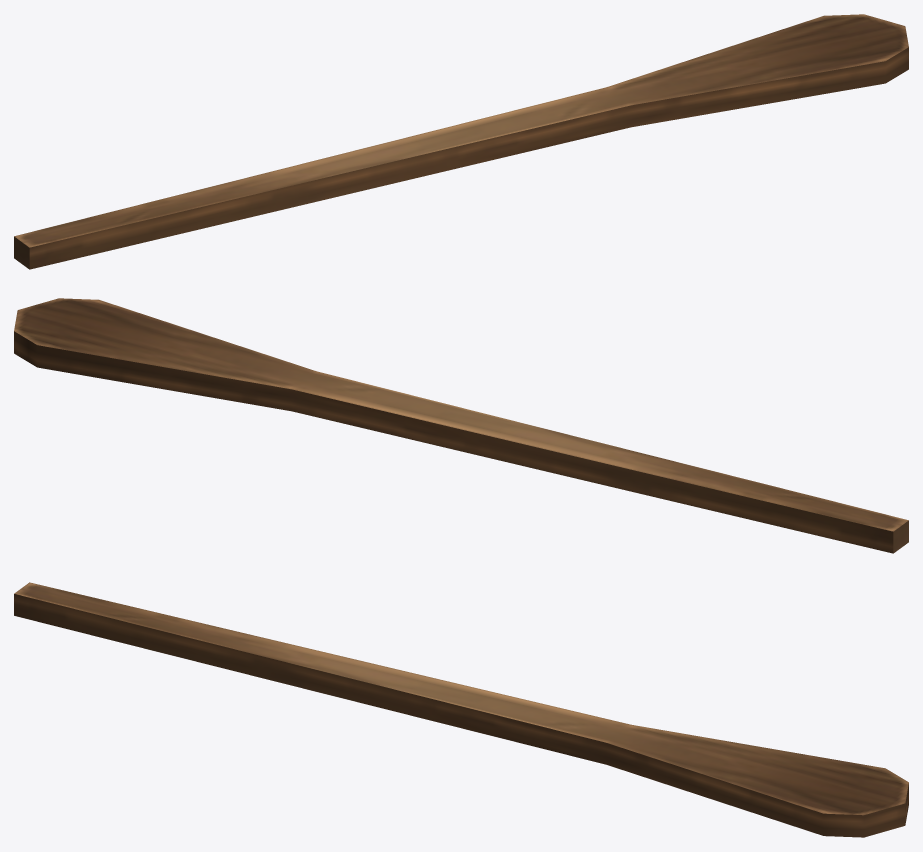
File: boat_paddle.FBX
The picture shows the model from 3 angles, top to bottom: view 1: azimuth 30°, elevation 25°; view 2: azimuth 150°, elevation 25°; view 3: azimuth 330°, elevation 25°; orthographic projection.
Visible parts, largest first — view 1: Object001; view 2: Object001; view 3: Object001.
Part boxes in pixels (<box>): Object001: <box>14,14,908,269</box>; Object001: <box>14,298,908,553</box>; Object001: <box>14,582,908,837</box>.
Bounding box in the file's own units: 91.7 × 2.22 × 11.14.
